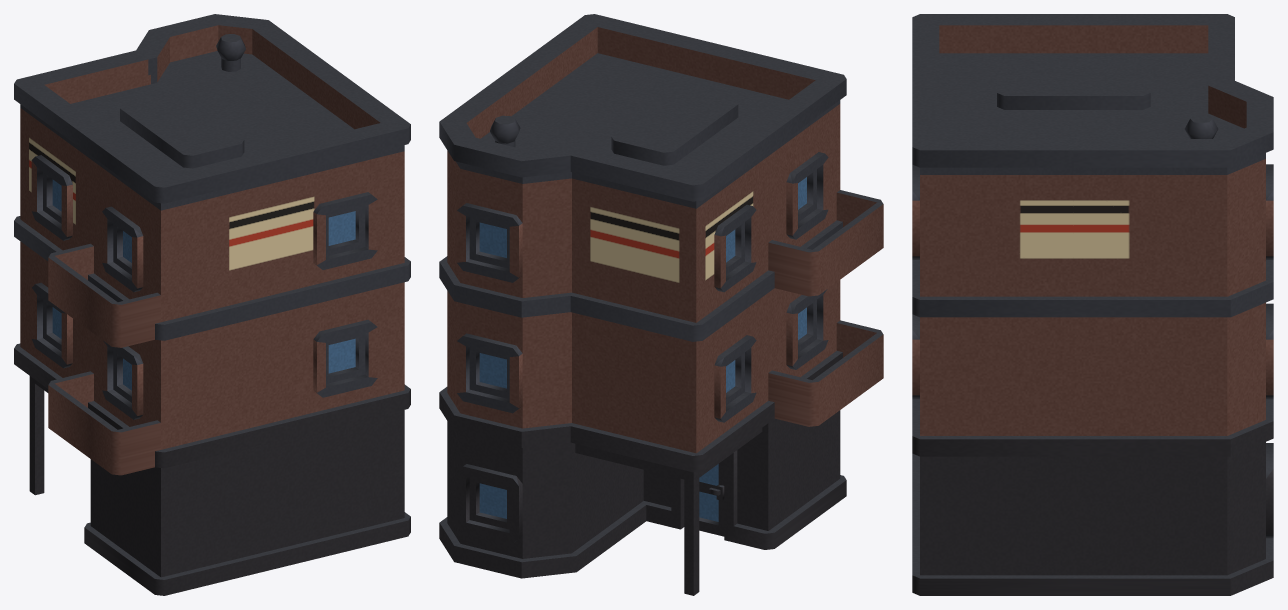
The model's file is building-b-brown.glb.
3 renders of one model, left to right at view 1: azimuth 30°, elevation 25°; view 2: azimuth 150°, elevation 25°; view 3: azimuth 270°, elevation 25°, orthographic. The views are drawn at different scales.
Parts seen in each view (by area): view 1: building-b-brown; view 2: building-b-brown; view 3: building-b-brown.
Part boxes in pixels (box(x1,y1,x2,y2)): building-b-brown: box(14, 14, 410, 595); building-b-brown: box(439, 14, 883, 595); building-b-brown: box(912, 14, 1273, 595).
Bounding box in the file's own units: 0.97 × 1.29 × 0.94.
1 material, 1 textured.
